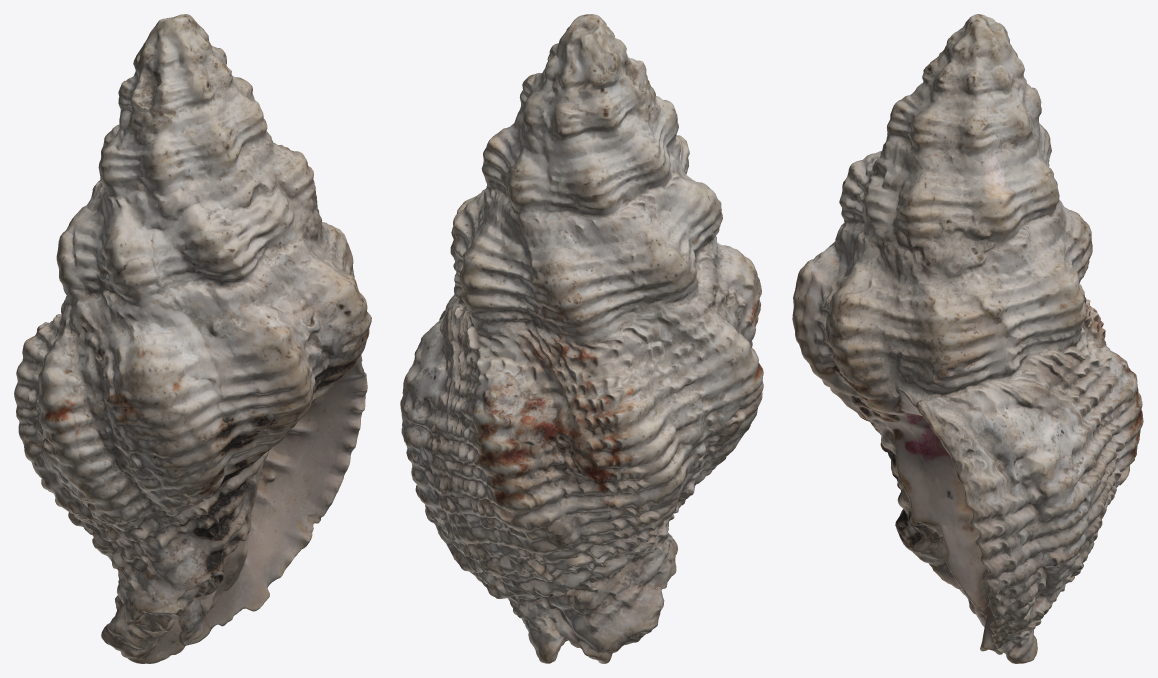
File: EWS0014061.glb
3 renders of one model, left to right at view 1: azimuth 30°, elevation 25°; view 2: azimuth 150°, elevation 25°; view 3: azimuth 270°, elevation 25°, orthographic. The views are drawn at different scales.
Visible parts, largest first — view 1: input; view 2: input; view 3: input.
Part boxes in pixels (box(x1,y1,x2,y2)): input: box(14, 14, 371, 663); input: box(400, 14, 763, 663); input: box(792, 14, 1143, 663).
Bounding box in the file's own units: 0.0106 × 0.0196 × 0.00985.
Materials: 1 (1 with a texture image).
